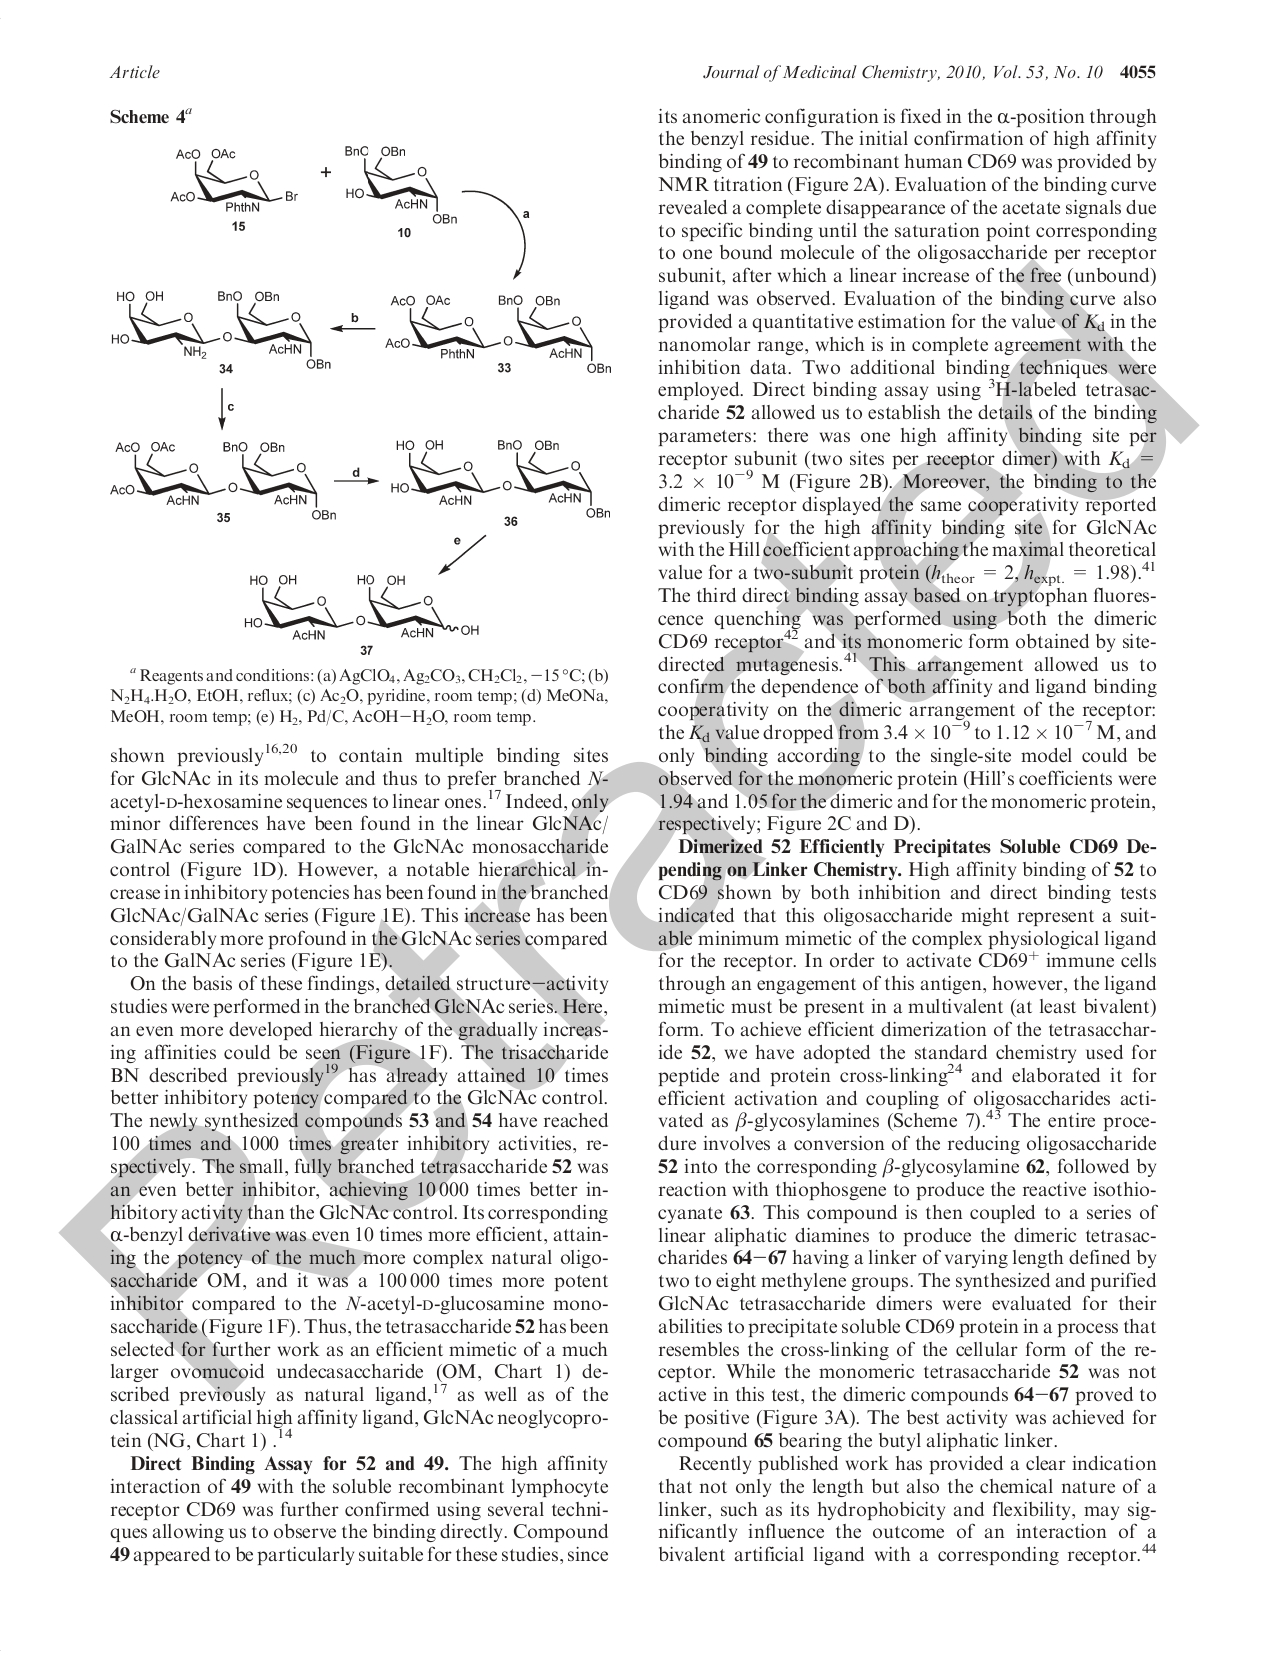exist_molecular: (98, 277, 336, 375), (234, 563, 488, 648), (392, 428, 614, 525), (106, 432, 332, 527), (386, 295, 609, 382), (334, 140, 469, 230), (162, 140, 307, 218)
